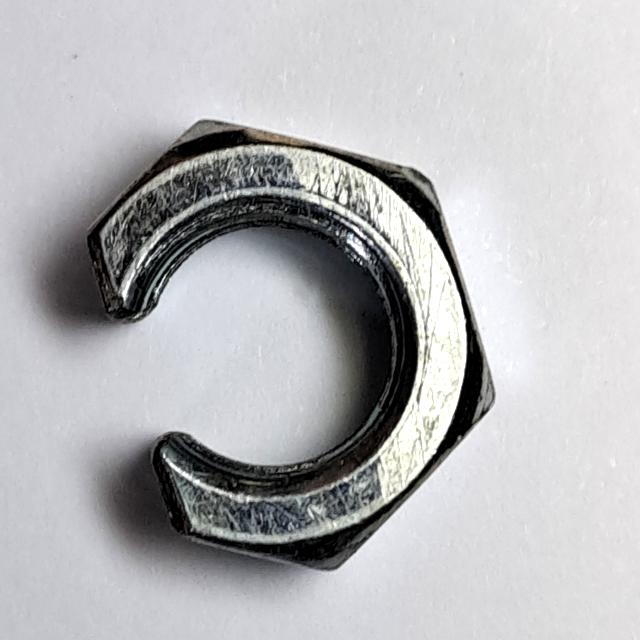Fracture: (74, 102, 513, 589)
